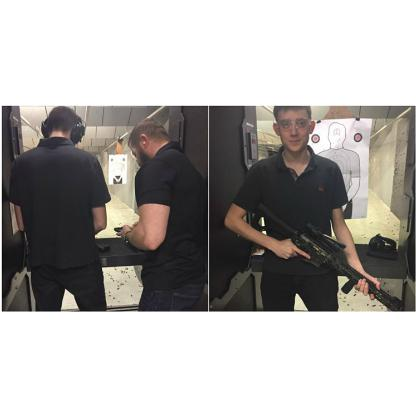gun: (246, 201, 408, 307)
